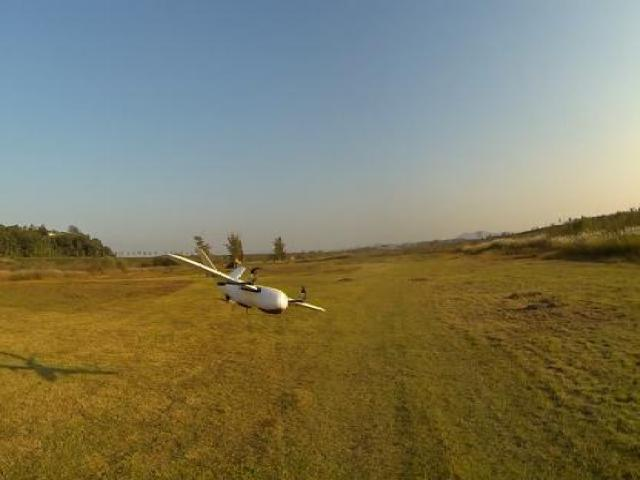uav: (156, 231, 332, 336)
